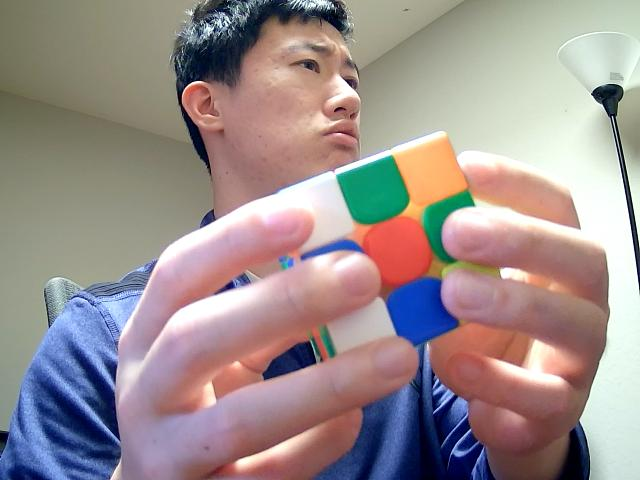Rubiks-Cube: (257, 126, 530, 375)
